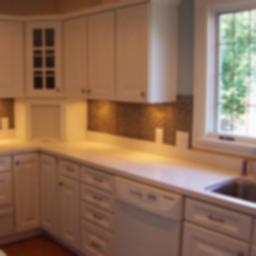Electrodomestico: (110, 180, 184, 253)
